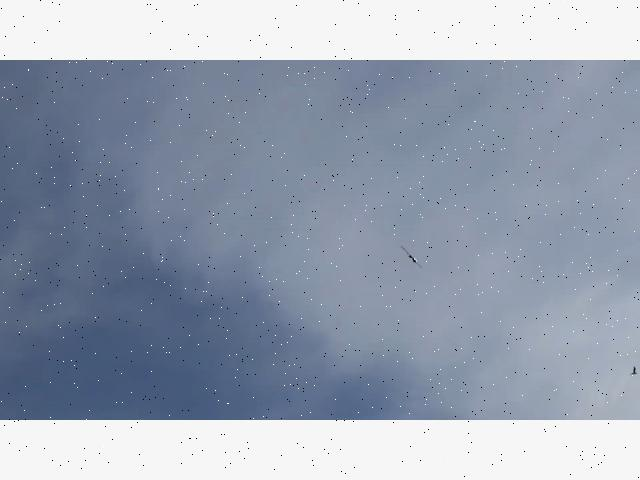Anti-Drone: (402, 247, 422, 268)
